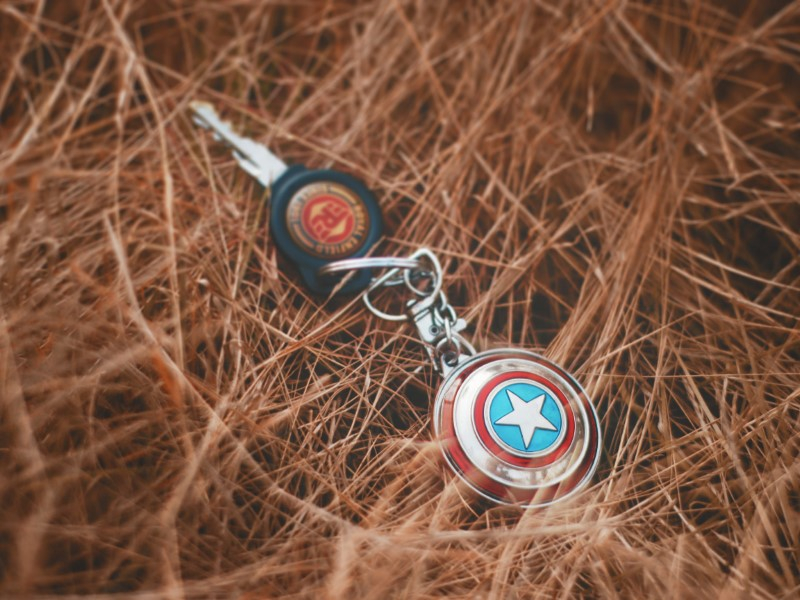carkey: (183, 96, 380, 288)
